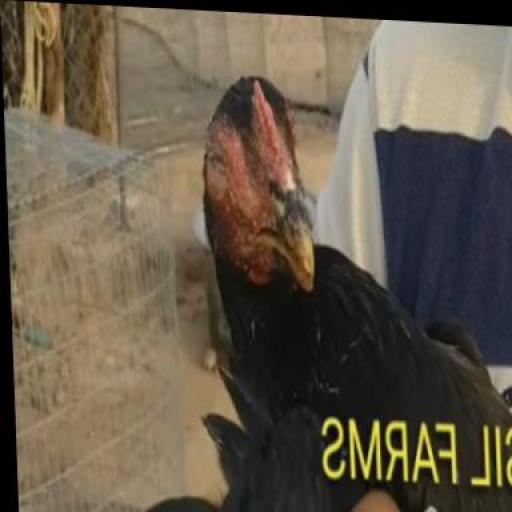disease: (198, 118, 270, 218)
